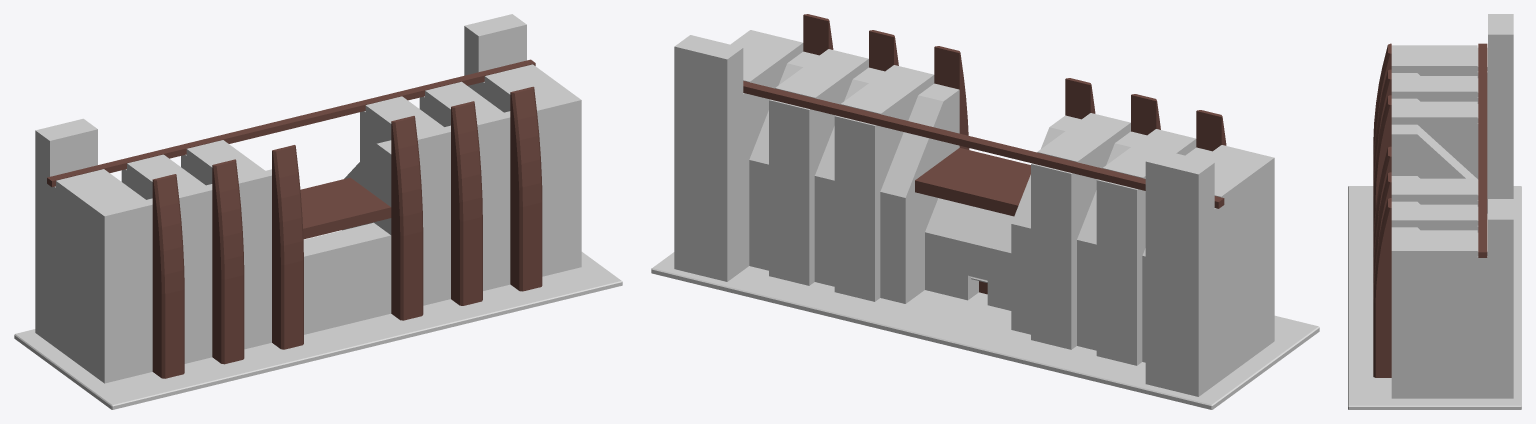
The model's file is 6x2A - old.glb.
3 views of the same model, side by side, from view 1: azimuth 30°, elevation 25°; view 2: azimuth 150°, elevation 25°; view 3: azimuth 270°, elevation 25° (orthographic). The views are drawn at different scales.
Parts seen in each view (by area): view 1: 6x2A; view 2: 6x2A; view 3: 6x2A.
Boxes of the visible parts, bbox=[...] form: 6x2A: bbox=[14, 14, 622, 409]; 6x2A: bbox=[651, 14, 1319, 409]; 6x2A: bbox=[1348, 14, 1521, 409].
Bounding box in the file's own units: 6 × 2.32 × 2.
